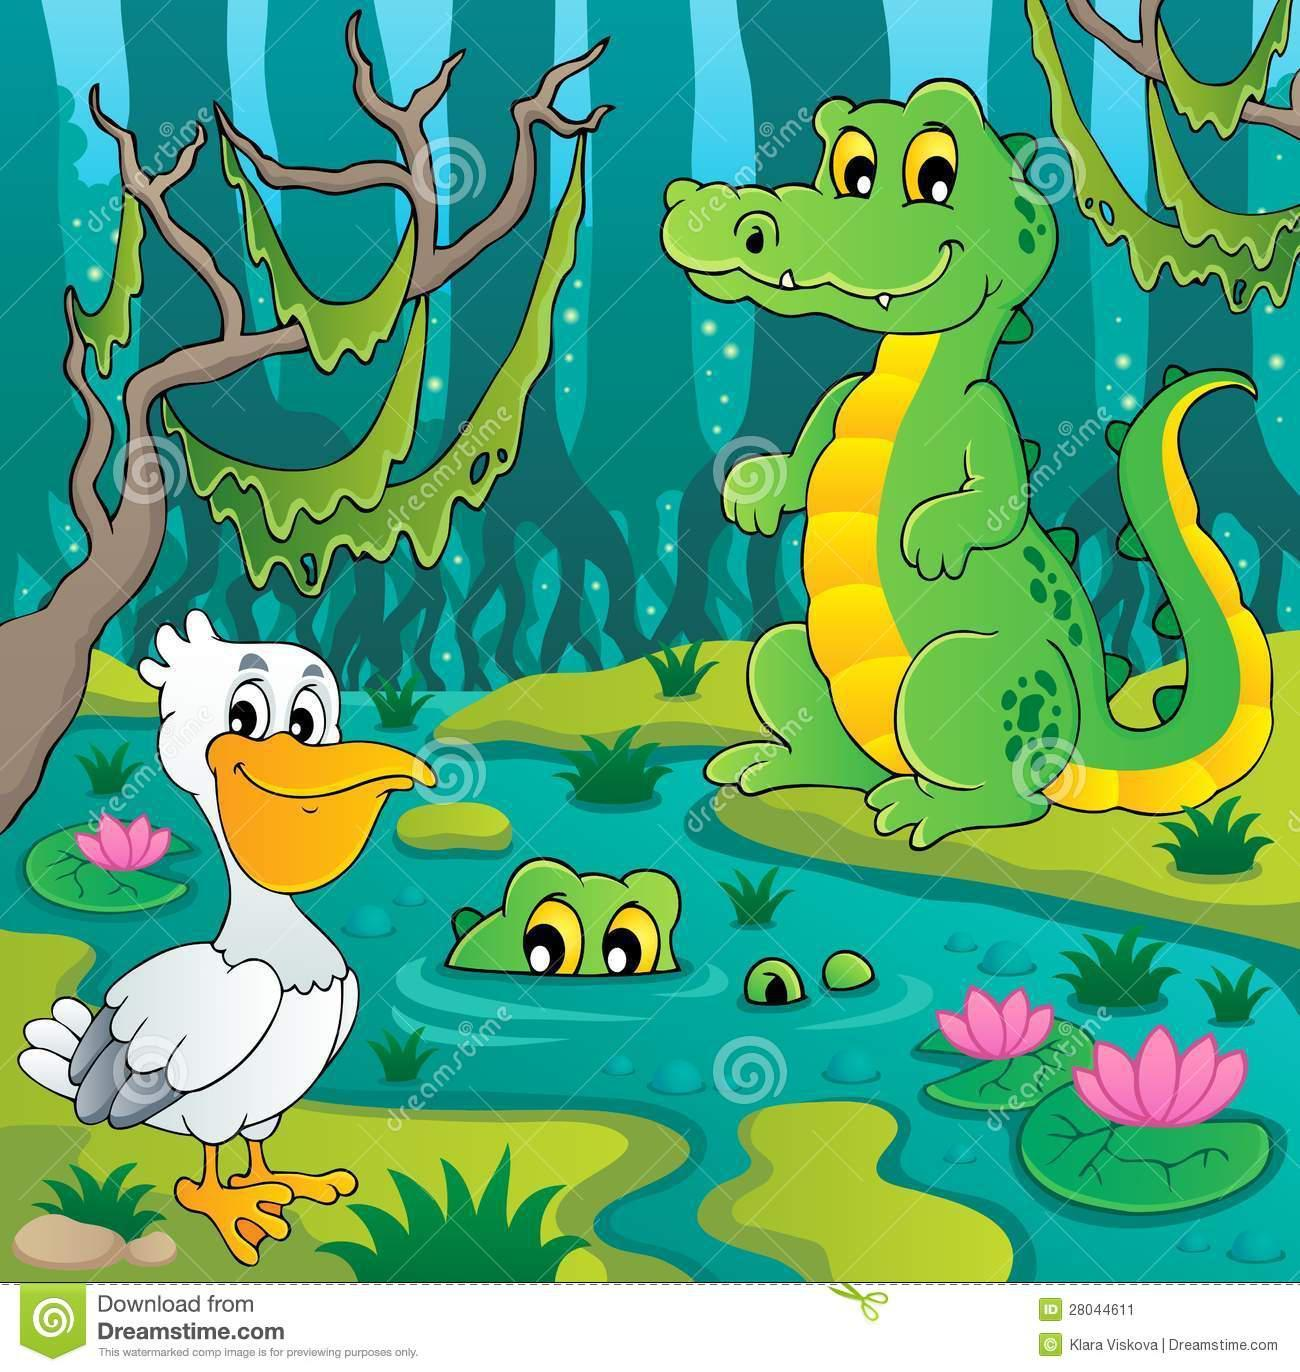bird: (17, 619, 447, 1260)
